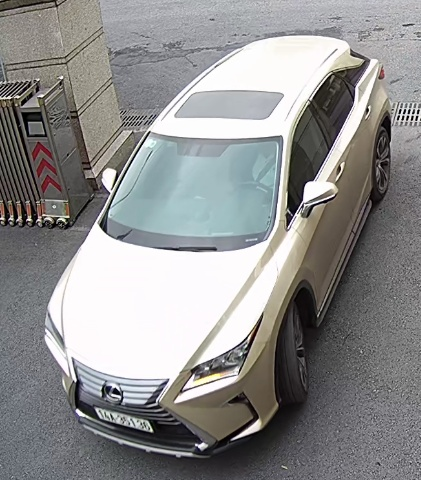vehicle plate: (89, 402, 153, 439)
